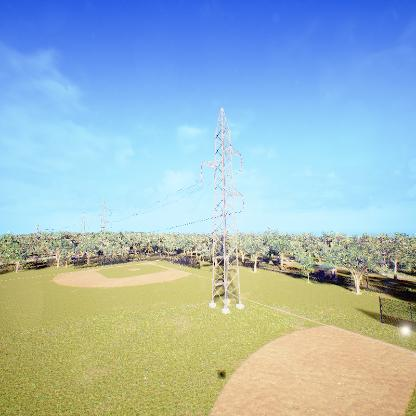tower: (197, 108, 247, 315)
